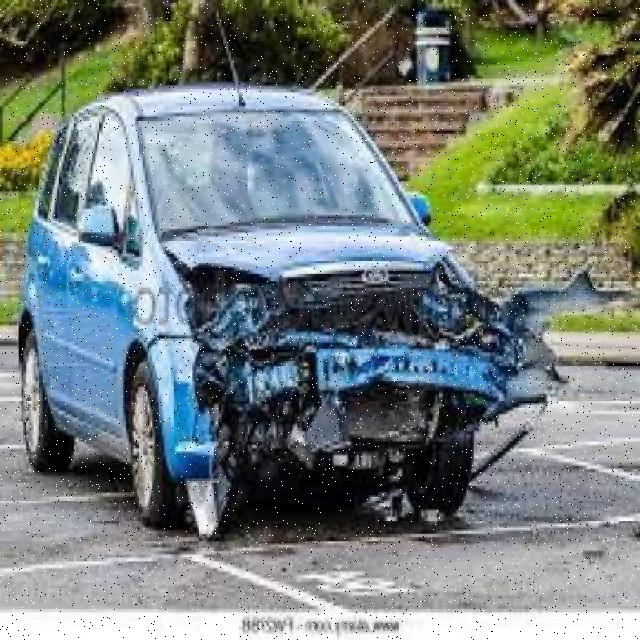damage: (162, 242, 624, 541)
